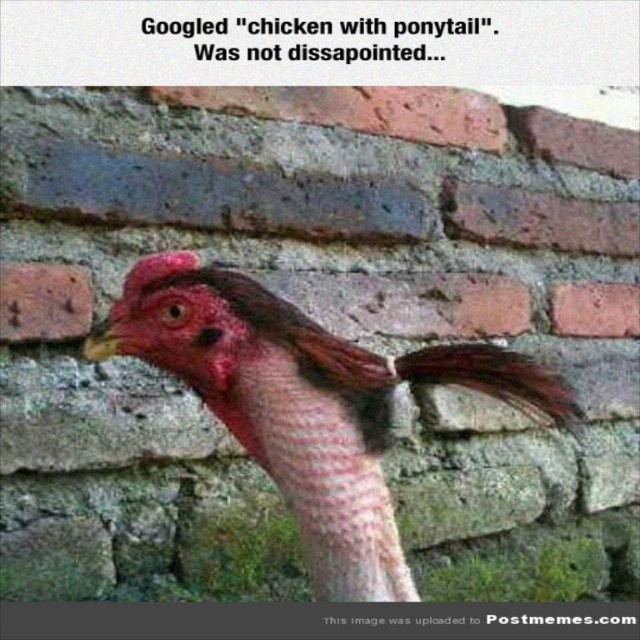Chicken: (87, 198, 568, 600)
